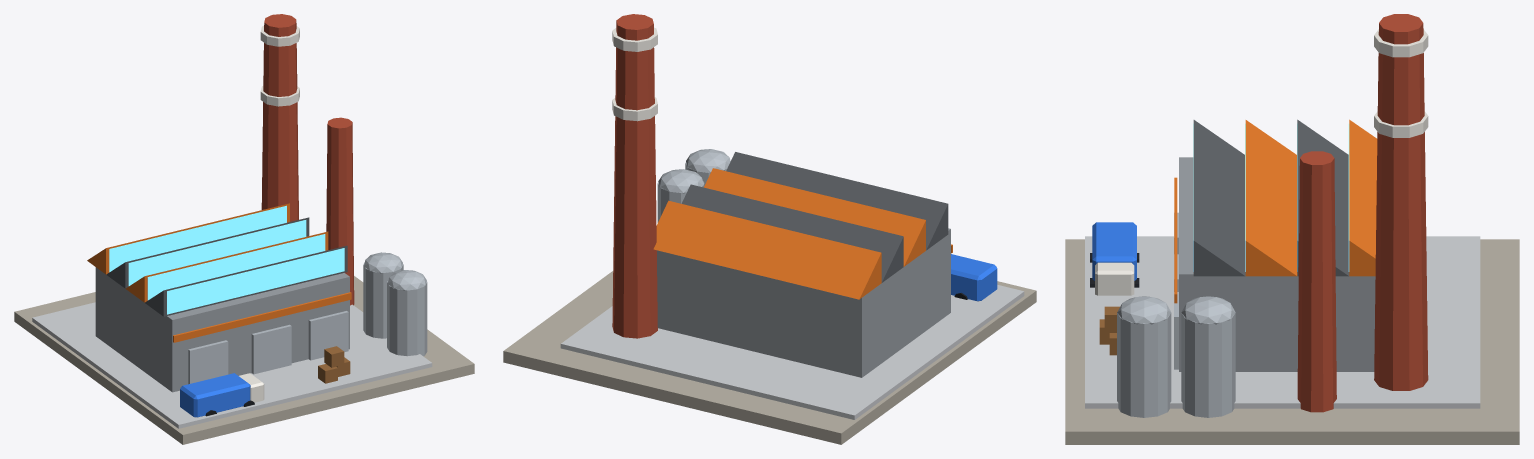
File: sc-factory-DSi2UQNk.glb
The picture shows the model from 3 angles, left to right: view 1: azimuth 30°, elevation 25°; view 2: azimuth 150°, elevation 25°; view 3: azimuth 270°, elevation 25°; orthographic projection. The views are drawn at different scales.
Parts seen in each view (by area): view 1: sc-factory; view 2: sc-factory; view 3: sc-factory.
Part boxes in pixels (left/top/right/bottom): sc-factory: left=14, top=14, right=474, bottom=444; sc-factory: left=503, top=14, right=1036, bottom=444; sc-factory: left=1065, top=14, right=1519, bottom=444.
Size of the model in its own units: 0.92 by 0.84 by 0.92.
